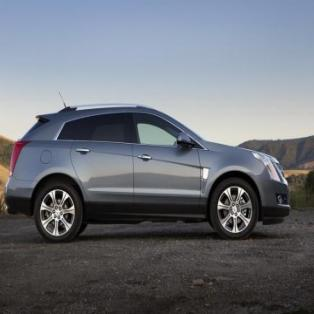Auto: (4, 89, 291, 243)
